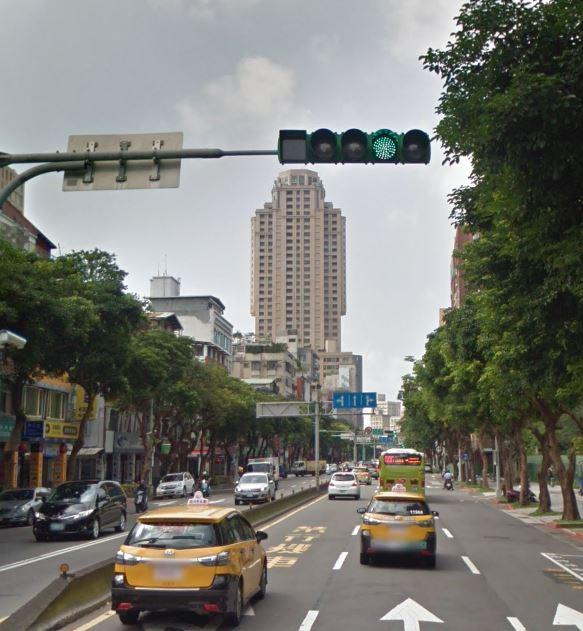green_traffic_light: (276, 124, 432, 167)
